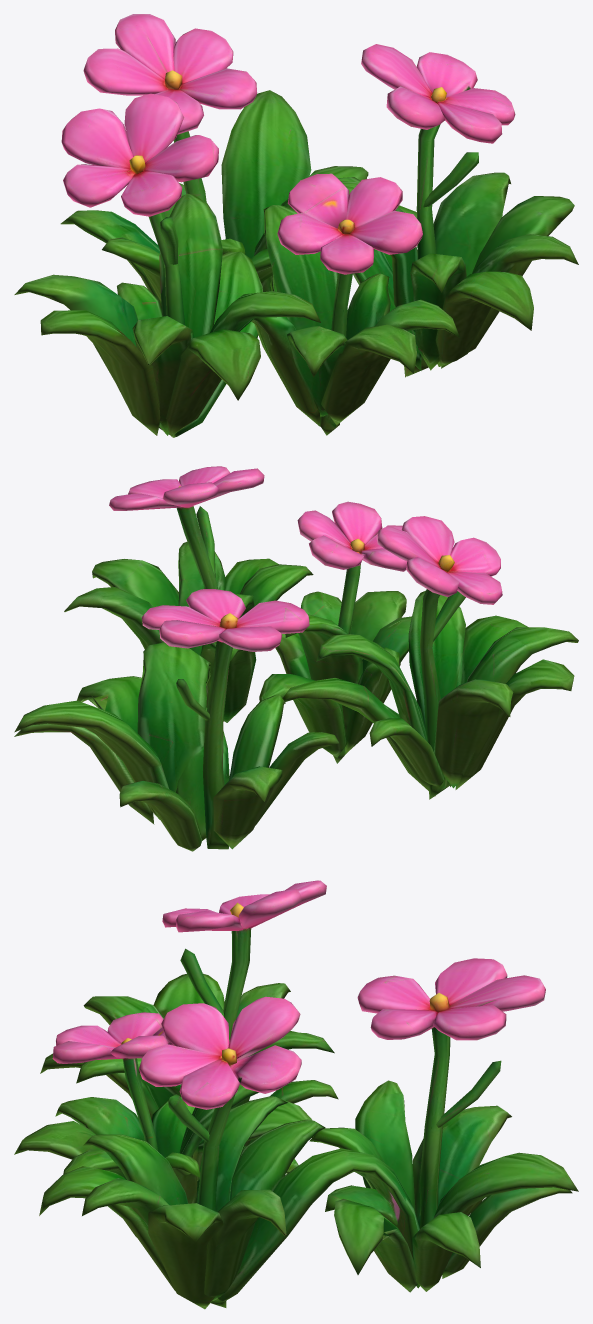
Rendered from s2_r3c2_pink_flower_patch.glb.
3 renders of one model, top to bottom at view 1: azimuth 30°, elevation 25°; view 2: azimuth 150°, elevation 25°; view 3: azimuth 270°, elevation 25°, orthographic. The views are drawn at different scales.
Size of the model in its own units: 1 by 0.5905 by 0.9398.
1 material, 1 textured.
